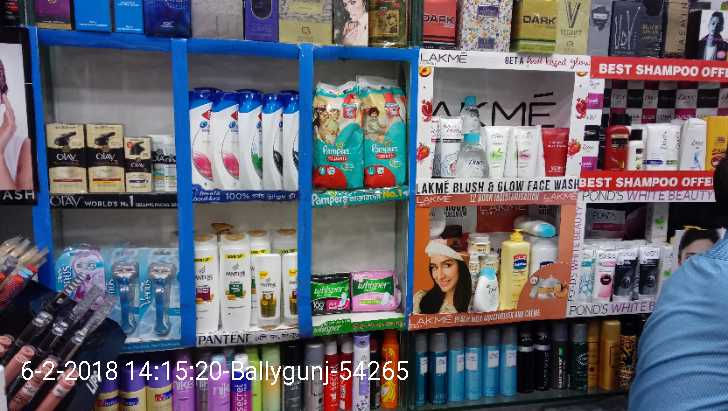venus: (142, 247, 180, 344), (109, 245, 142, 344), (61, 245, 102, 294)
